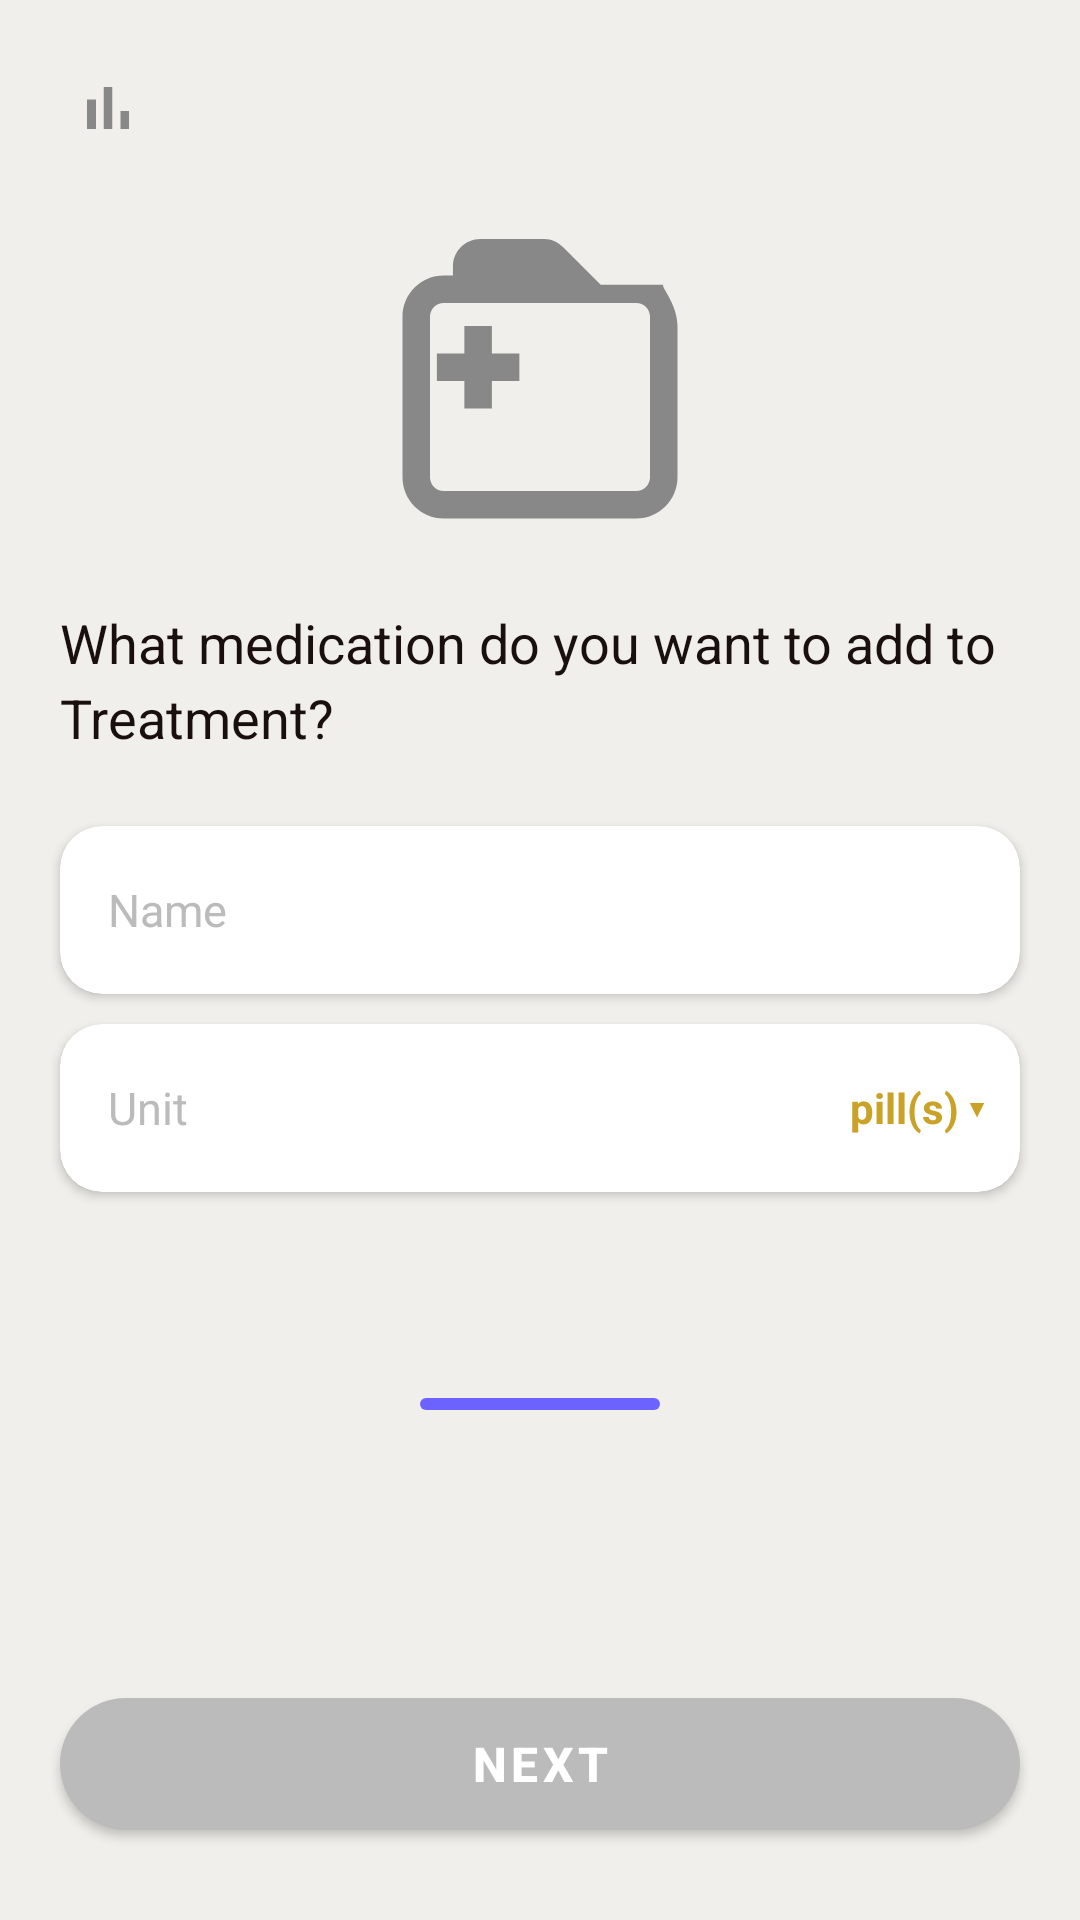

Named icons in this screenshot (1080w x 1920h) and their centers, [x,y]:
medicine: [540,379]
progress: [108,108]
